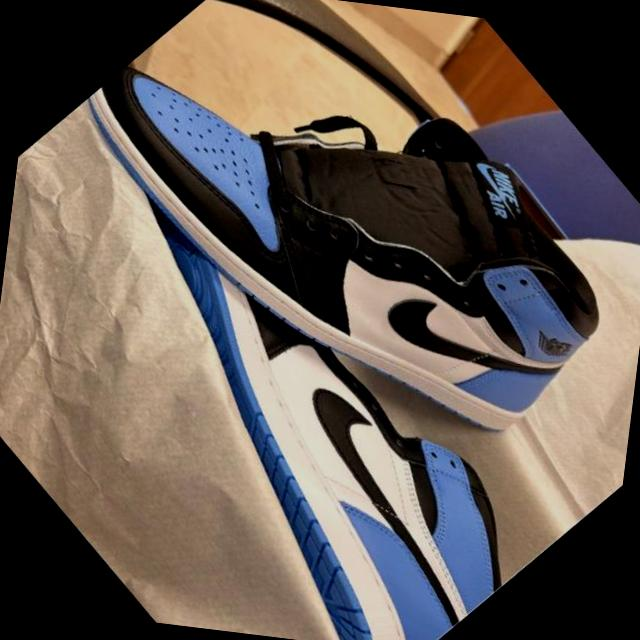nike_original_jordan: (35, 0, 640, 542), (18, 153, 584, 640)
